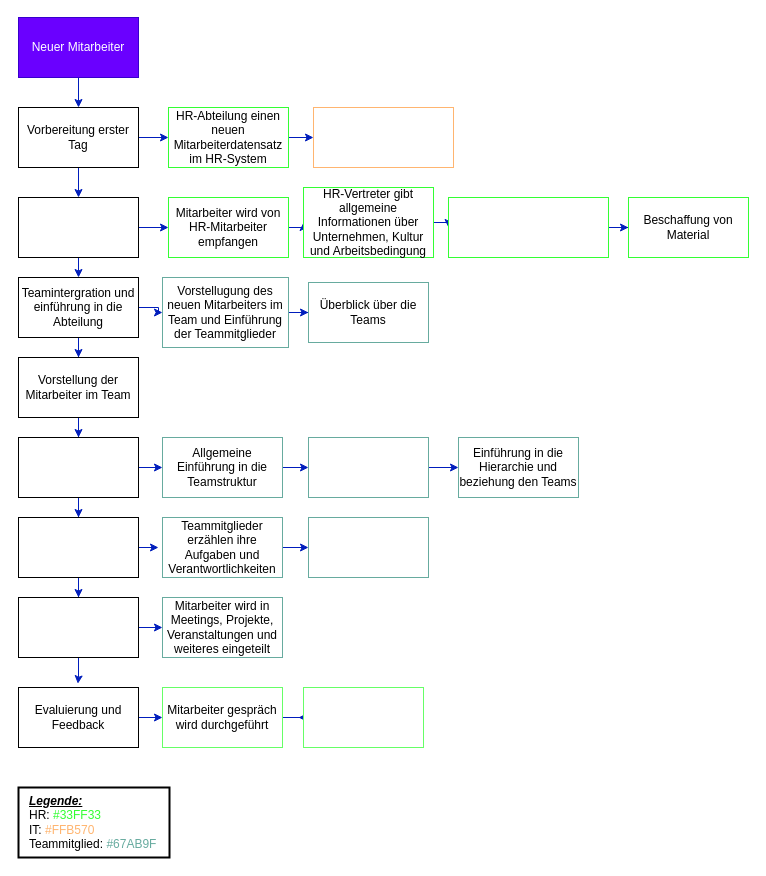
The diagram is 766 pixels wide and 876 high, and some of its shapes have lost their labels. The shapes that lost their labels are listed below. From the top down, each one's box as (x1, y1, x2, y2) in pixels, then its label:
(312, 106, 454, 168): Bereitstellung Zugansdaten und Anmeldeinformationen
(18, 196, 138, 258): Begrüssung und Einführung
(448, 196, 608, 258): Einführung Unternehmensrichtlinien, Arbeitszeitregelung und anderes
(18, 436, 138, 498): Einführung in die Teamstruktur
(308, 436, 428, 498): Rolleneintellung
(18, 516, 138, 578): Erklärung der Aufgaben und Verantwortlichkeit
(308, 516, 428, 578): Zuteilung der Aufgaben und Verantwortichkeiten
(18, 596, 138, 658): Intergration in Teamaktivitäten
(302, 686, 424, 748): Feedback sammlung
